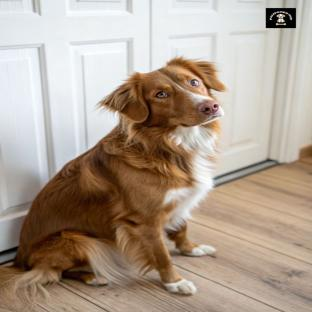Animal: (0, 57, 226, 308)
